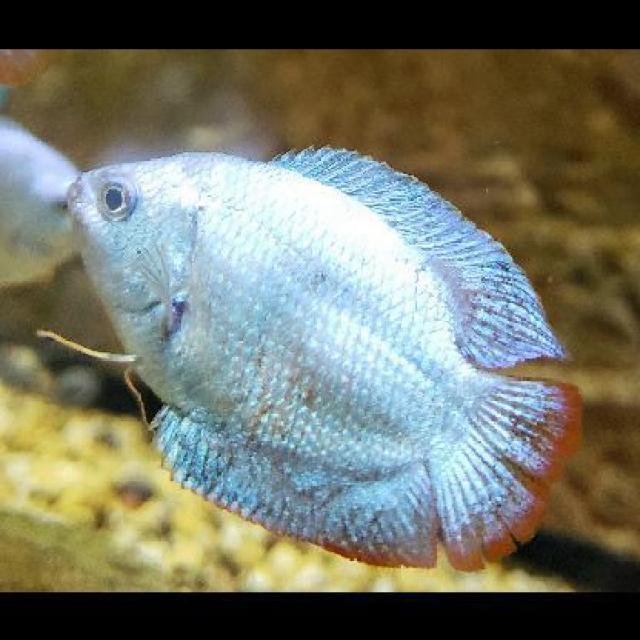Gourami: (70, 143, 579, 586)
